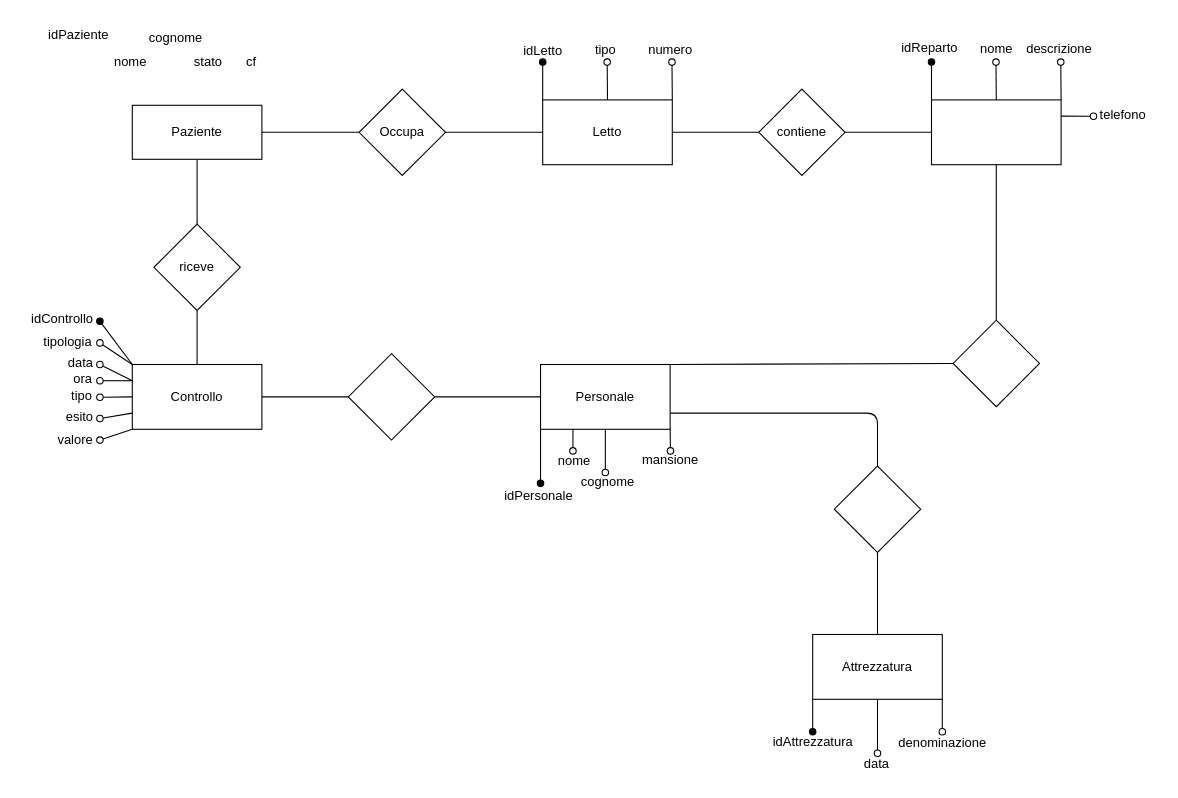
This 1178x798 diagram has some shape labels left out. Each missing label, with the centre of its shape:
"effettuato da" goes at pixel 391 396.
"lsvora in" goes at pixel 996 363.
"Reparto" goes at pixel 995 132.
"utilizza" goes at pixel 877 508.
